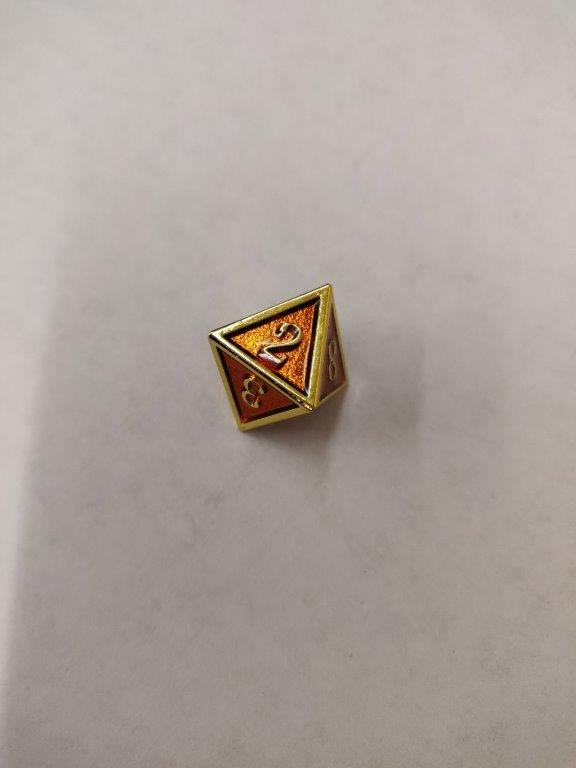d8-2: (208, 281, 353, 432)
